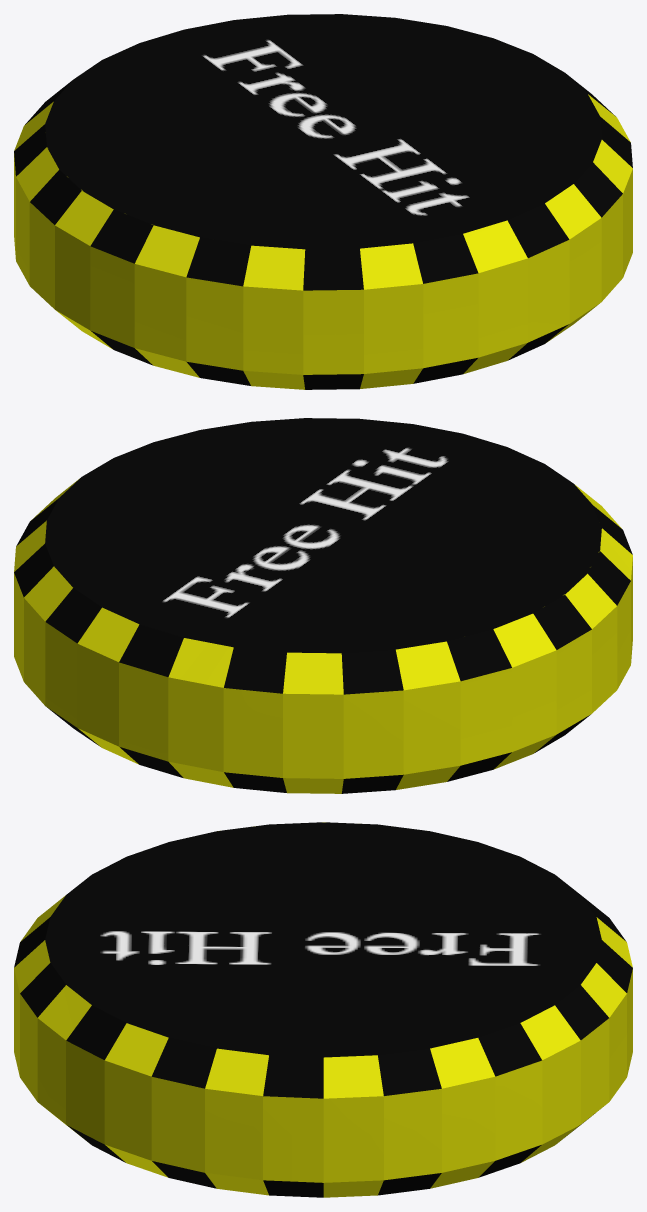
The model's file is Free_Hit.fbx.
3 views of the same model, one above another, from view 1: azimuth 30°, elevation 25°; view 2: azimuth 150°, elevation 25°; view 3: azimuth 270°, elevation 25° (orthographic).
Visible parts, largest first — view 1: Cylinder; view 2: Cylinder; view 3: Cylinder.
Part boxes in pixels (x1,y1,x2,y2): Cylinder: [14, 14, 632, 389]; Cylinder: [14, 418, 632, 793]; Cylinder: [14, 822, 632, 1197].
Bounding box in the file's own units: 200 × 50 × 200.
1 material, 1 textured.
